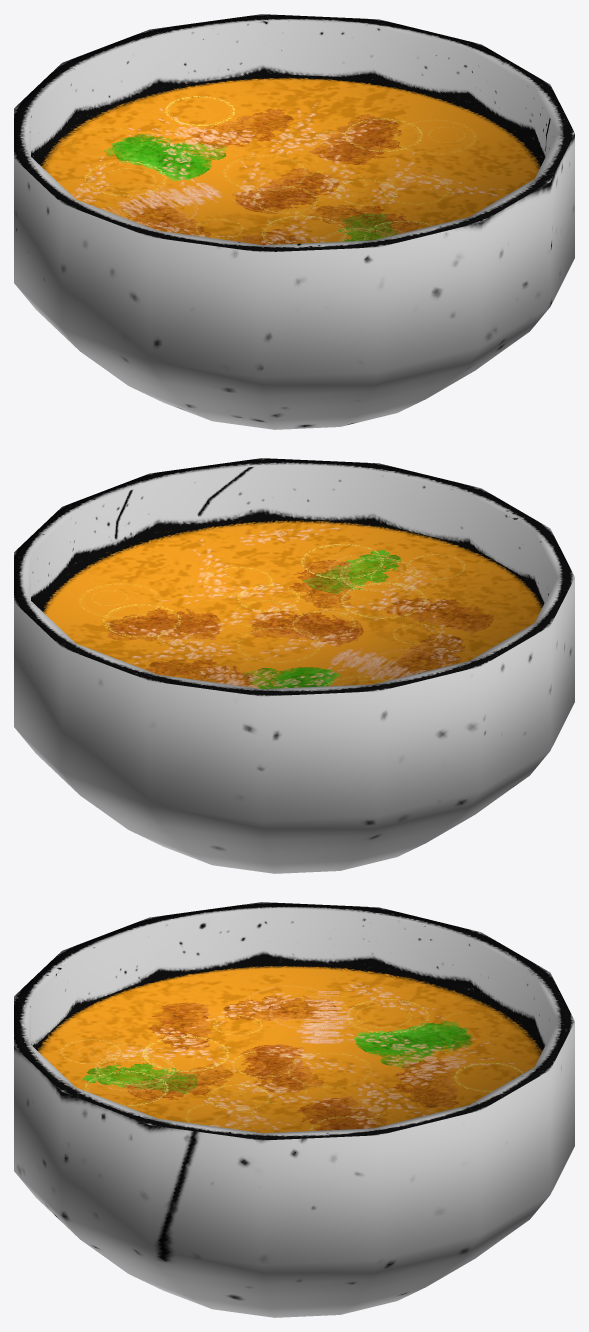
File: Bowl_w_soup.obj
The picture shows the model from 3 angles, top to bottom: view 1: azimuth 30°, elevation 25°; view 2: azimuth 150°, elevation 25°; view 3: azimuth 270°, elevation 25°; orthographic projection.
Visible parts, largest first — view 1: BowlWithFood; view 2: BowlWithFood; view 3: BowlWithFood.
Part boxes in pixels (box(x1,y1,x2,y2)): BowlWithFood: box(14, 14, 574, 429); BowlWithFood: box(14, 458, 574, 873); BowlWithFood: box(14, 902, 574, 1317).
Size of the model in its own units: 1.99 by 0.8949 by 1.98.
